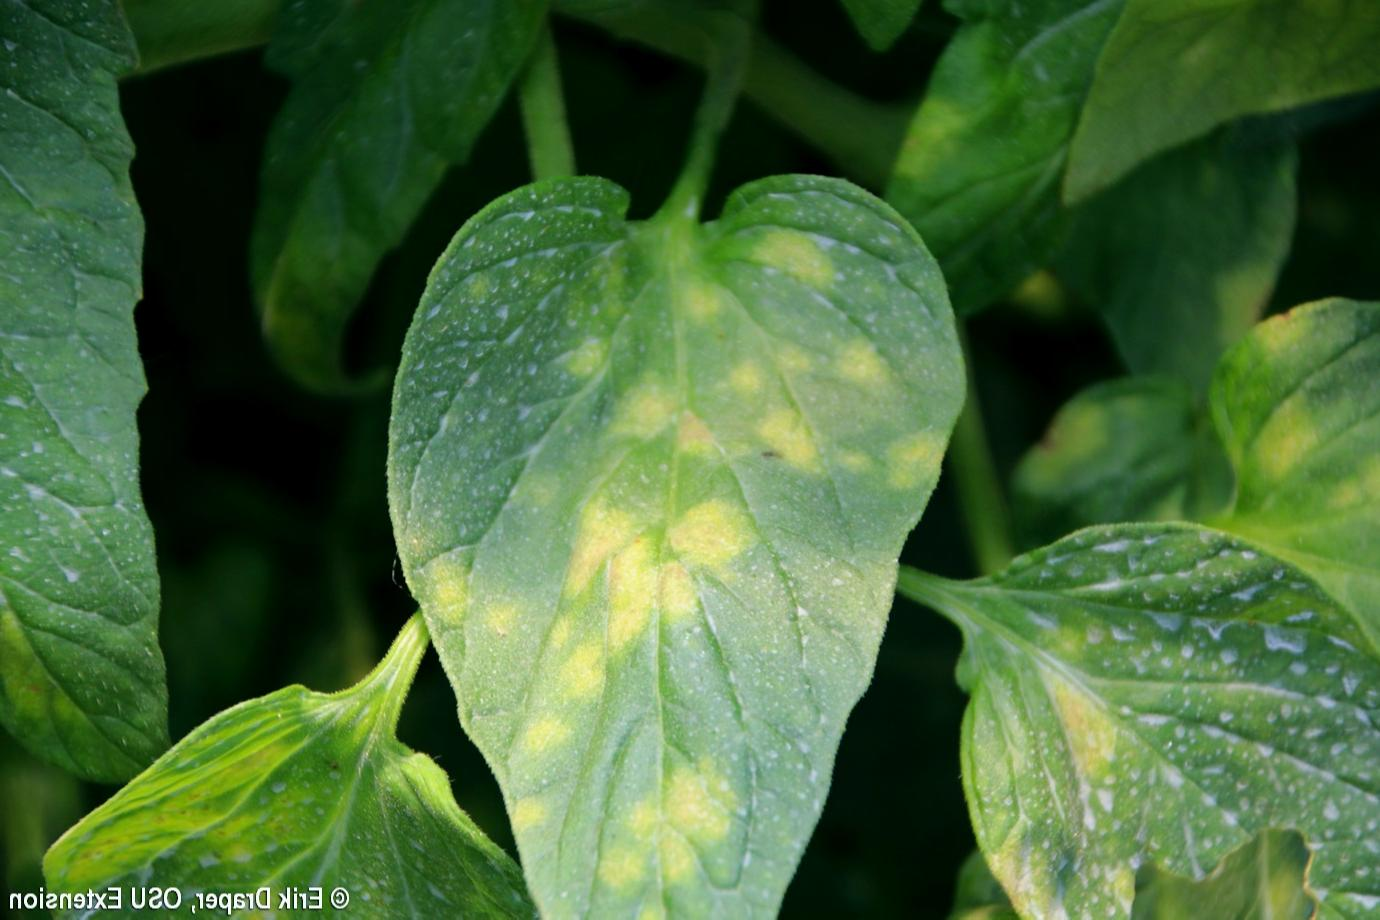Tomato mold leaf: (402, 141, 972, 920)
